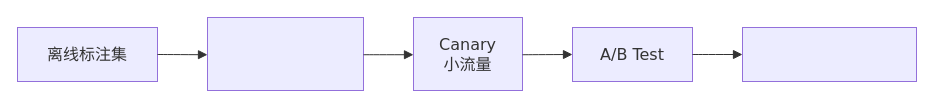
Some shapes in this 934 by 108 pixel diagram are drawn without their labels. Each missing label, with the box of its shape:
Shadow 只记录不生效: (206, 16, 364, 90)
全量 + 持续监控: (742, 26, 916, 82)
